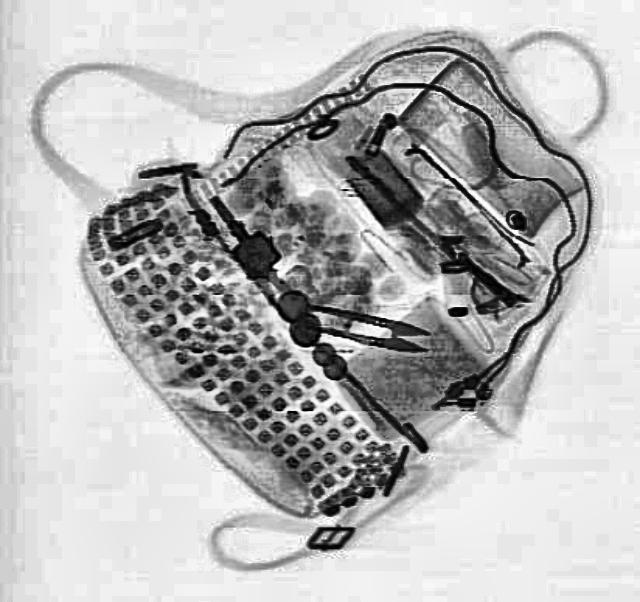Scissors: (290, 298, 432, 356)
